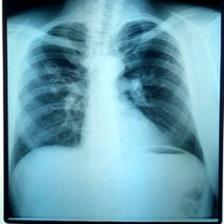tuberculosis: (8, 16, 210, 186)
